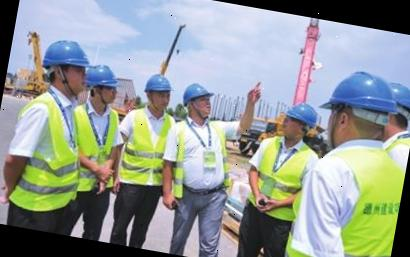helmet: (318, 64, 402, 122), (39, 34, 100, 78), (84, 61, 126, 93), (279, 98, 324, 126), (180, 78, 216, 108), (142, 70, 176, 96), (385, 78, 410, 113)
wear: (289, 143, 407, 257), (5, 90, 88, 218), (162, 116, 234, 202), (62, 104, 122, 197), (116, 107, 178, 192), (250, 135, 312, 220)
